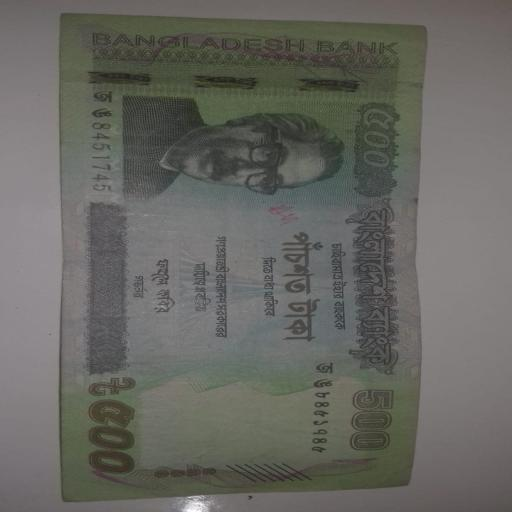500taka: (60, 14, 426, 501)
